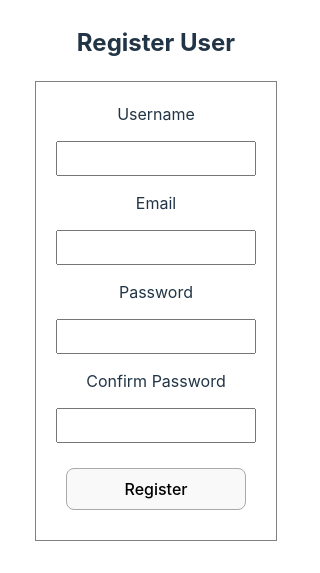
Register Component › shows error for invalid email format and does not submit
The width and height of the screenshot is (320, 573).
Step 1. Type "testuser" into the field labelled "Username" → (156, 159), box [56,141,256,176]
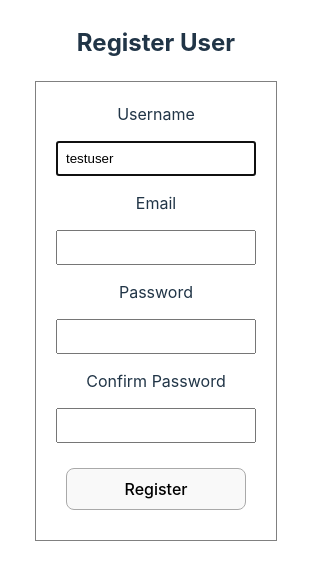
Step 2. Type "invalid-email" into the field labelled "Email" → (156, 248), box [56,230,256,265]
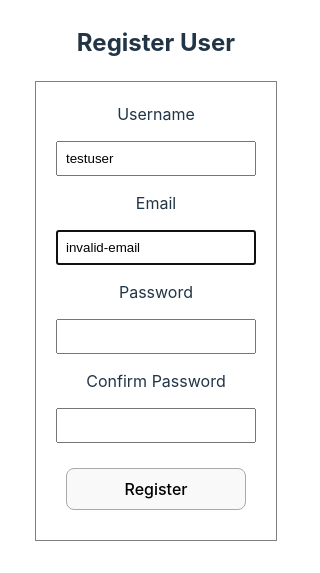
Step 3. Type "password123" into the password field labelled "Password" → (156, 337), box [56,319,256,354]
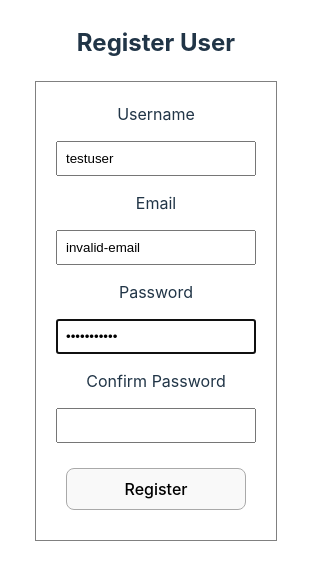
Step 4. Type "password123" into the password field labelled "Confirm Password" → (156, 426), box [56,408,256,443]
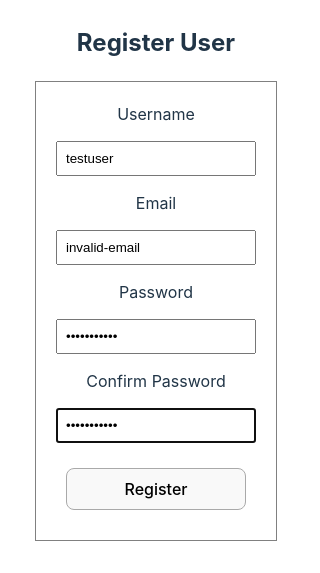
Step 5. Click the button "Register" → (156, 489), box [66,468,246,510]
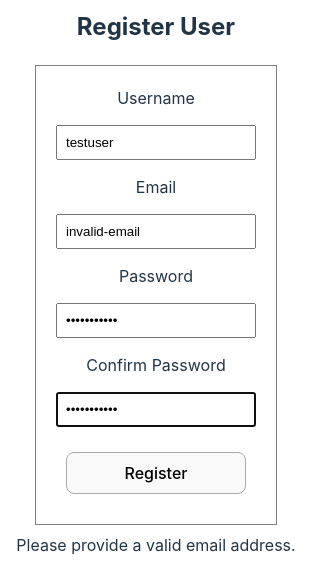
Now the text "Please provide a valid email address." is shown, box [16,532,296,556]
